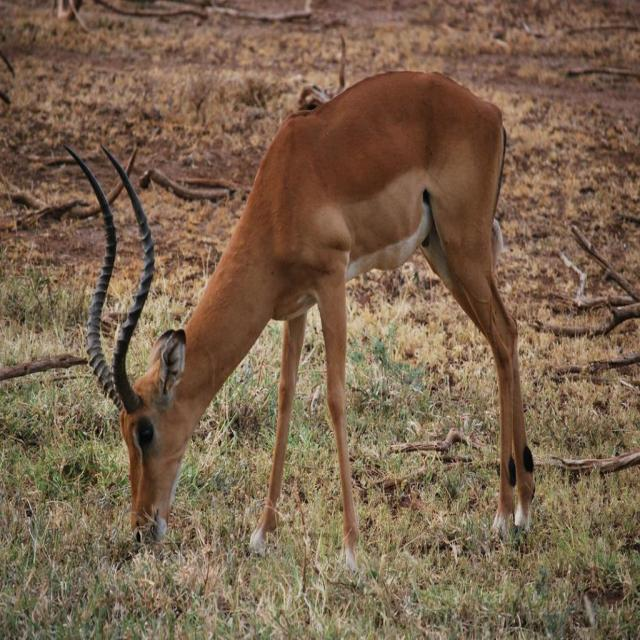Deer: (59, 68, 538, 577)
